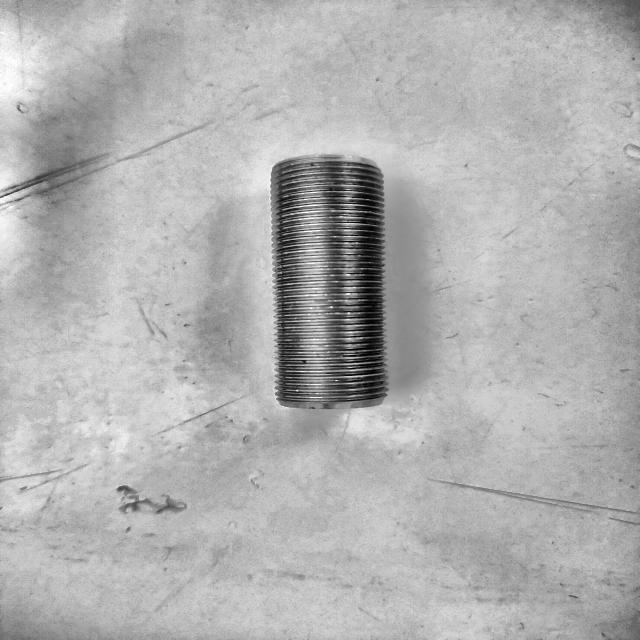Normal: (268, 152, 392, 417)
